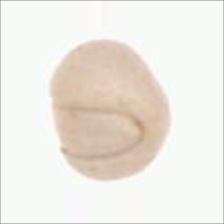L5: (49, 104, 150, 161), (156, 83, 177, 154)
L6: (47, 38, 175, 182)
